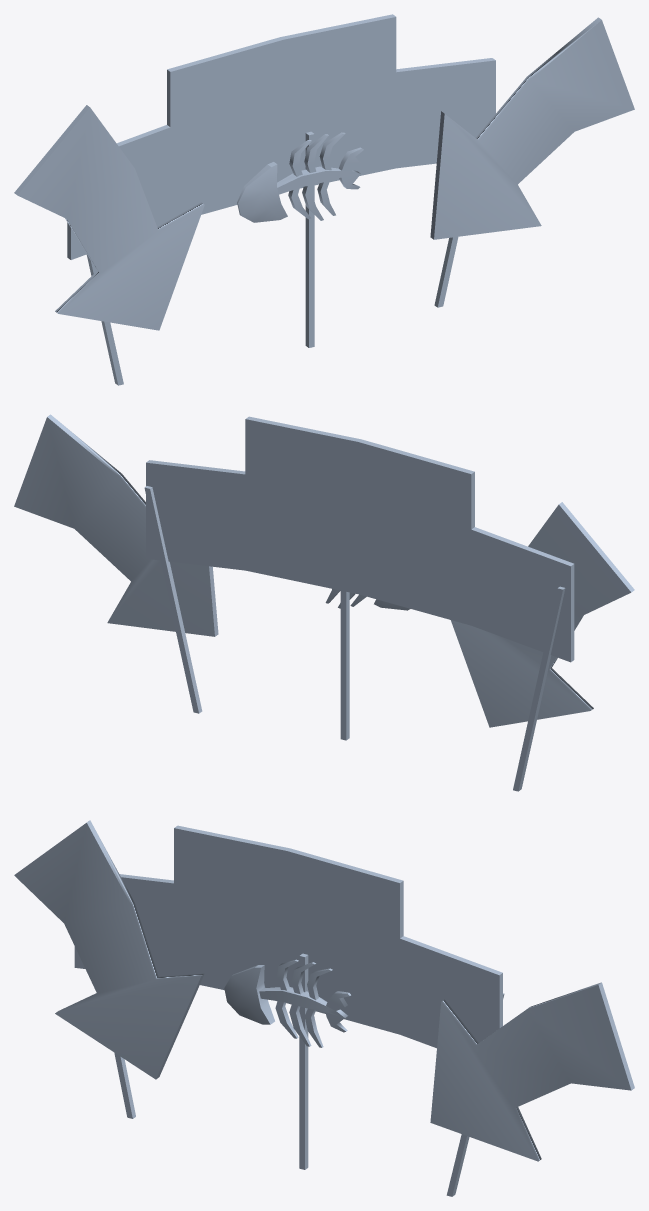
The model's file is Signs.fbx.
The picture shows the model from 3 angles, top to bottom: view 1: azimuth 30°, elevation 25°; view 2: azimuth 150°, elevation 25°; view 3: azimuth 330°, elevation 25°; orthographic projection.
Parts seen in each view (by area): view 1: sign; view 2: sign; view 3: sign.
Boxes of the visible parts, x1,y1,x2,y2 form: sign: [14, 14, 634, 385]; sign: [14, 414, 634, 791]; sign: [14, 820, 634, 1196].
Size of the model in its own units: 2.93 by 1.4 by 0.1479.
